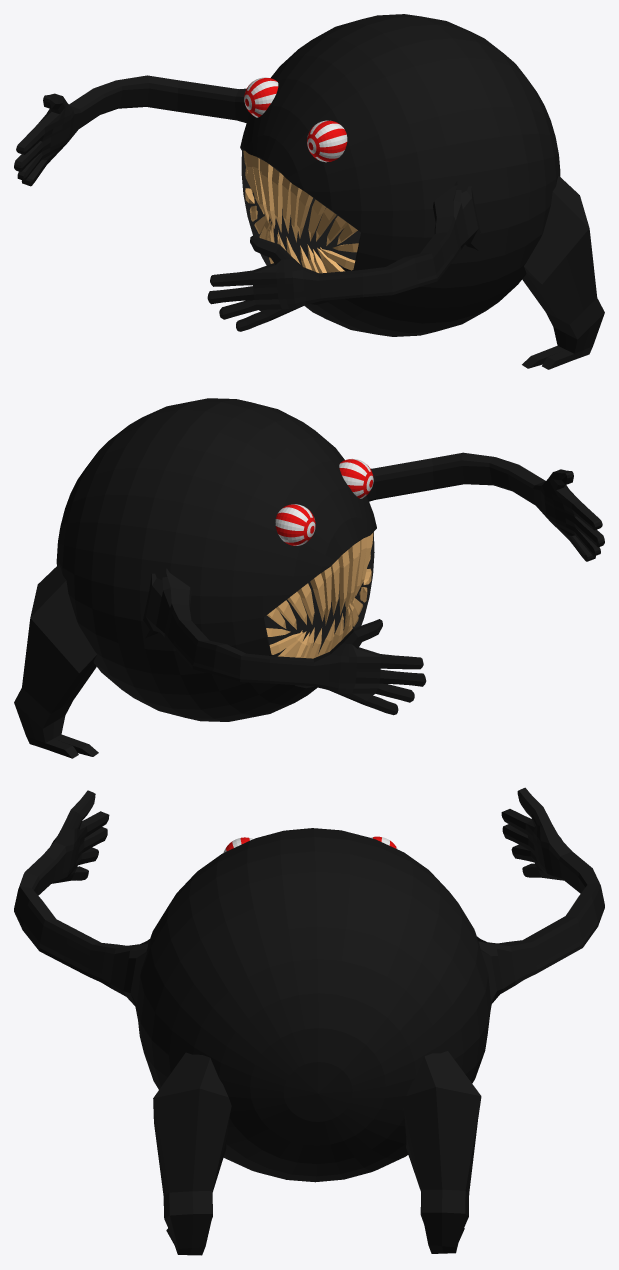
Rendered from Chompy.fbx.
3 views of the same model, one above another, from view 1: azimuth 30°, elevation 25°; view 2: azimuth 150°, elevation 25°; view 3: azimuth 270°, elevation 25° (orthographic). The views are drawn at different scales.
Visible parts, largest first — view 1: Body, Teeth, Eyes; view 2: Body, Teeth, Eyes; view 3: Body.
Boxes of the visible parts, x1,y1,x2,y2 form: Body: [14, 14, 604, 369]; Teeth: [243, 150, 358, 273]; Eyes: [244, 77, 347, 162]; Body: [14, 398, 604, 758]; Teeth: [266, 532, 373, 658]; Eyes: [275, 458, 373, 545]; Body: [14, 787, 604, 1255].
Size of the model in its own units: 1118 by 766 by 1190.
